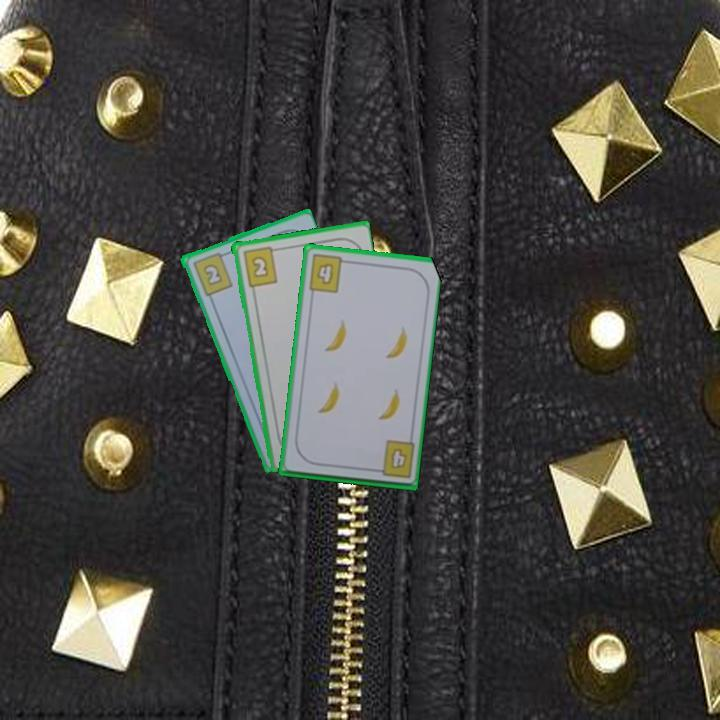2b: (189, 249, 235, 298), (239, 243, 281, 289)
4b: (369, 437, 417, 481), (305, 251, 351, 296)
